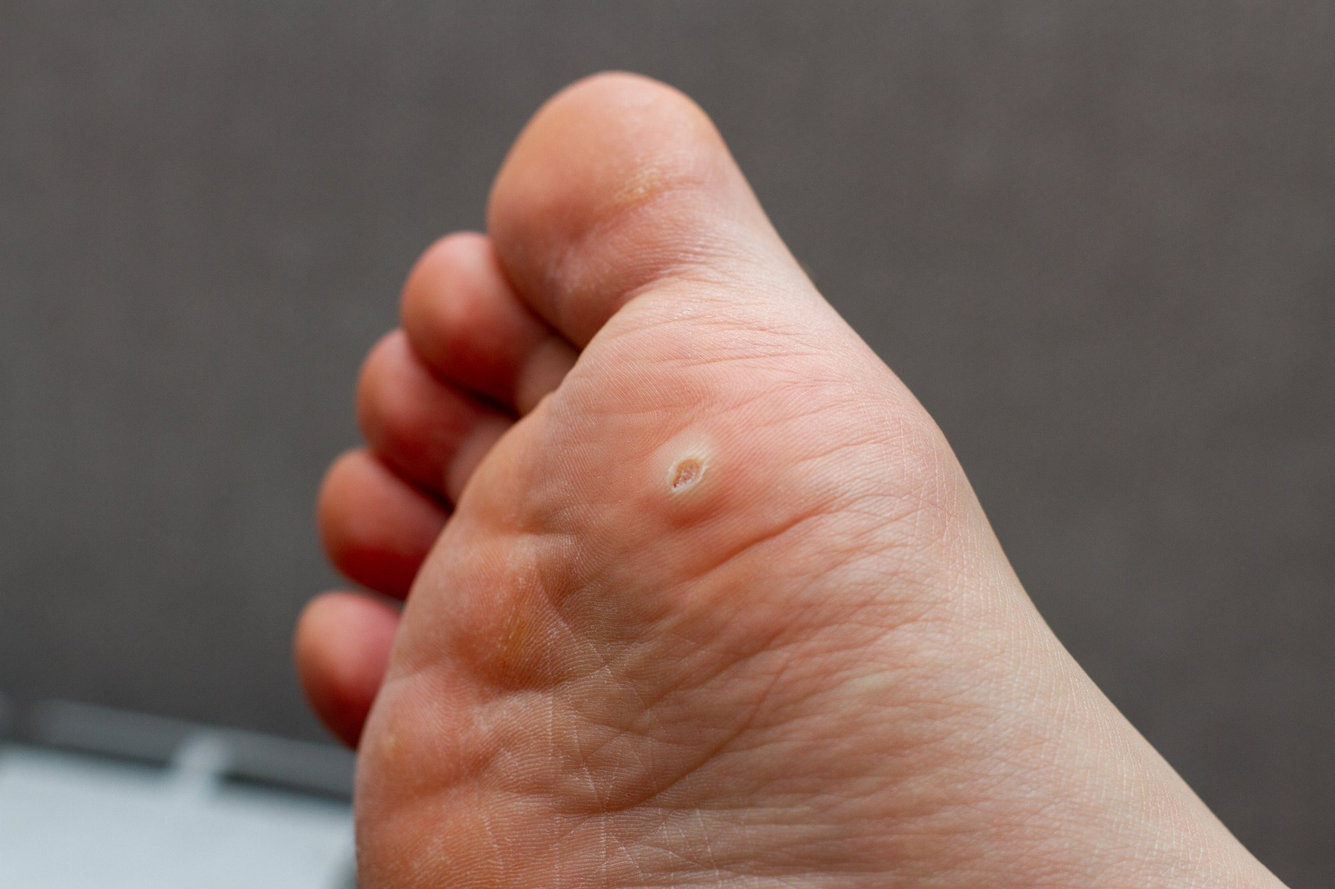Warts: (630, 421, 745, 527)
